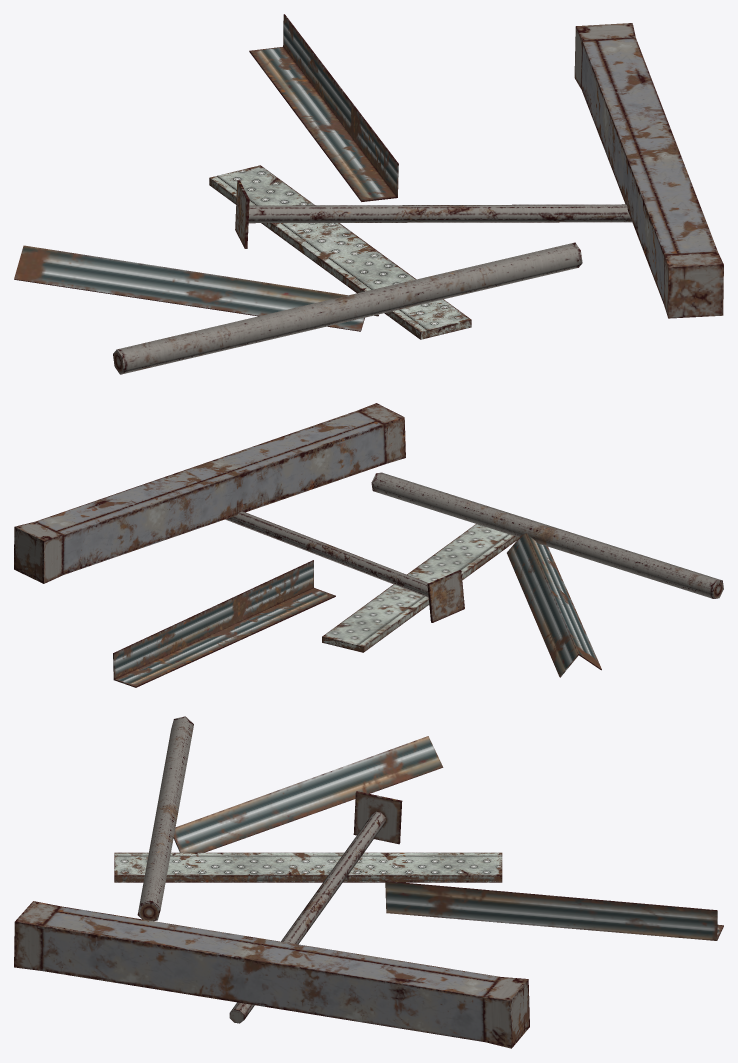
Rendered from ScrapMetal_A.fbx.
The picture shows the model from 3 angles, top to bottom: view 1: azimuth 30°, elevation 25°; view 2: azimuth 150°, elevation 25°; view 3: azimuth 270°, elevation 25°; orthographic projection. The views are drawn at different scales.
Visible parts, largest first — view 1: ScrapMetal_A_LOD0; view 2: ScrapMetal_A_LOD0; view 3: ScrapMetal_A_LOD0.
Part boxes in pixels (x1=…): ScrapMetal_A_LOD0: x1=14, y1=14, x2=723, y2=374; ScrapMetal_A_LOD0: x1=14, y1=403, x2=723, y2=687; ScrapMetal_A_LOD0: x1=14, y1=716, x2=723, y2=1048.
Size of what is drawn, in the model's own units: 220 by 20.74 by 212.
